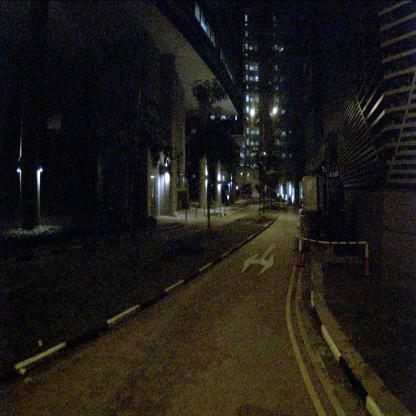cone: (296, 236, 304, 266), (364, 240, 370, 276), (293, 228, 300, 249)
